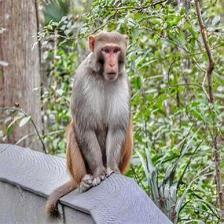monkey: (67, 31, 135, 199)
